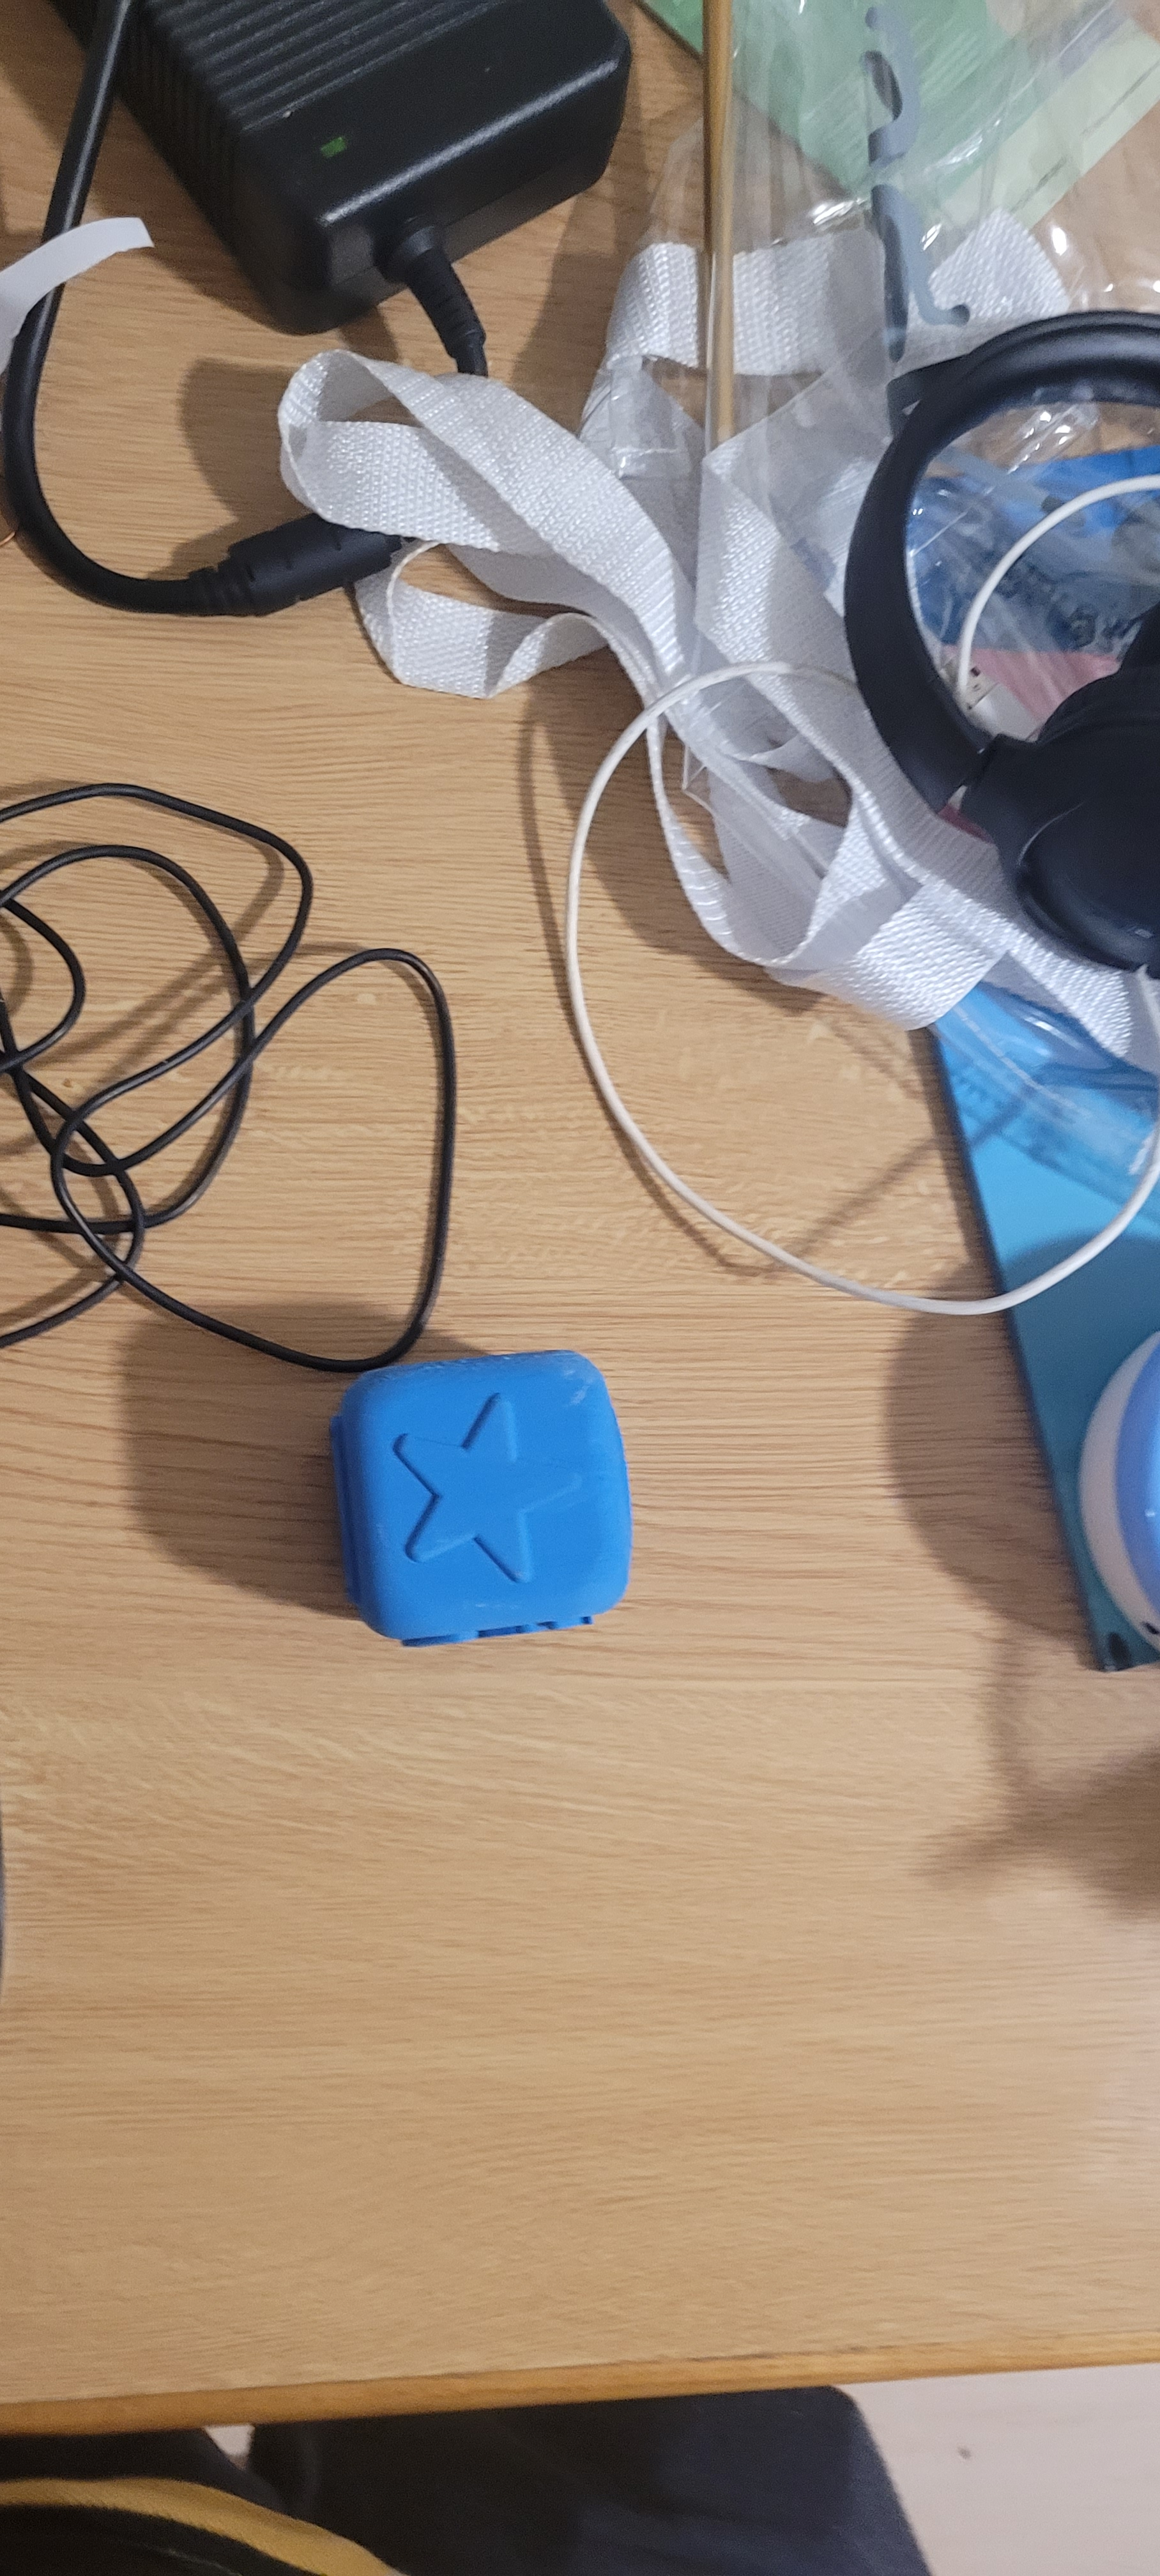Star: (380, 1380, 615, 1598)
